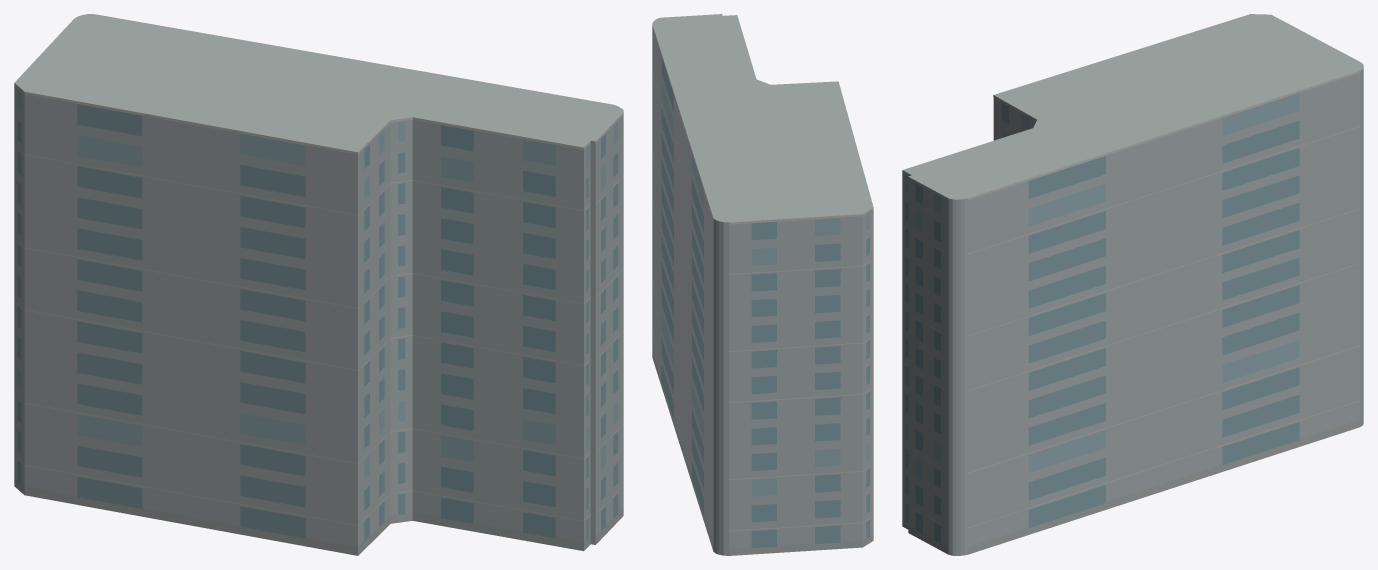
The model's file is residential-7a35e290-0c32-4daa-b3fd-56879796dcaa.glb.
3 renders of one model, left to right at view 1: azimuth 30°, elevation 25°; view 2: azimuth 150°, elevation 25°; view 3: azimuth 270°, elevation 25°, orthographic. The views are drawn at different scales.
Visible parts, largest first — view 1: residential-7a35e290-0c32-4daa-b3fd-56879796dcaa.tmp; view 2: residential-7a35e290-0c32-4daa-b3fd-56879796dcaa.tmp; view 3: residential-7a35e290-0c32-4daa-b3fd-56879796dcaa.tmp.
Part boxes in pixels (x1,y1,x2,y2): residential-7a35e290-0c32-4daa-b3fd-56879796dcaa.tmp: (14,14,623,555); residential-7a35e290-0c32-4daa-b3fd-56879796dcaa.tmp: (652,14,873,555); residential-7a35e290-0c32-4daa-b3fd-56879796dcaa.tmp: (902,14,1363,555).
Bounding box in the file's own units: 43.56 × 39 × 45.76.
